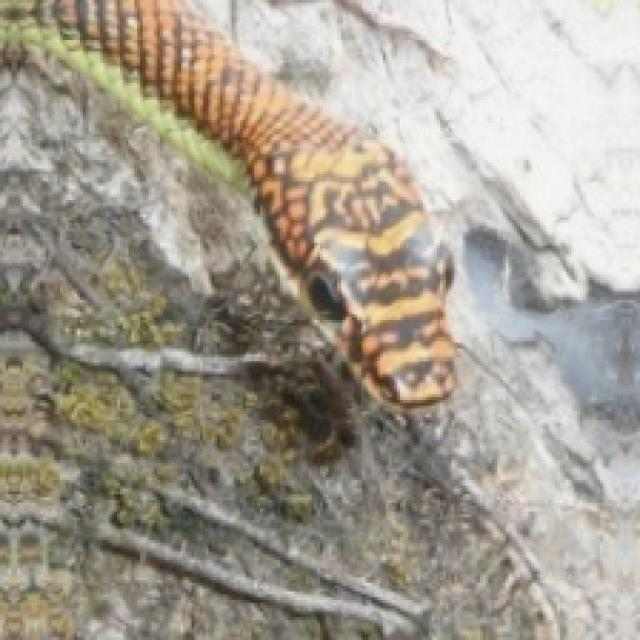paradise tree snake: (0, 0, 454, 403)
